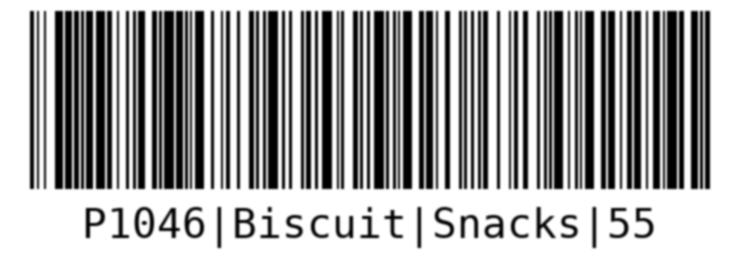milk: (24, 8, 716, 255)
